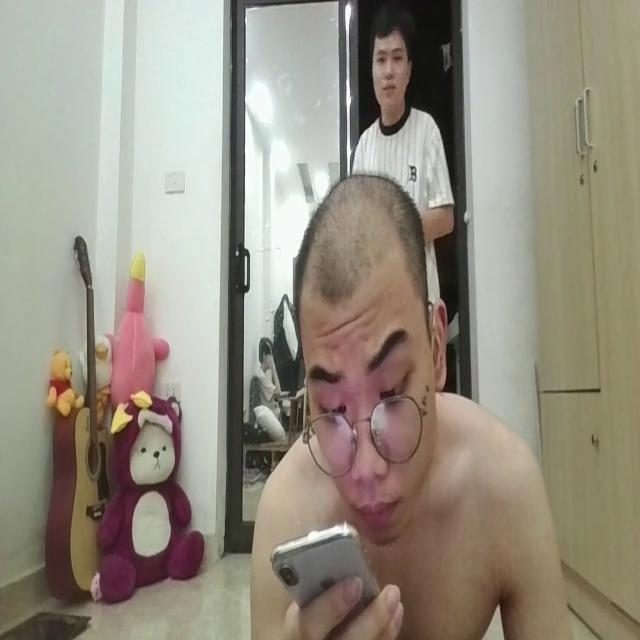extra_person: (322, 14, 456, 312)
student: (238, 172, 576, 640)
